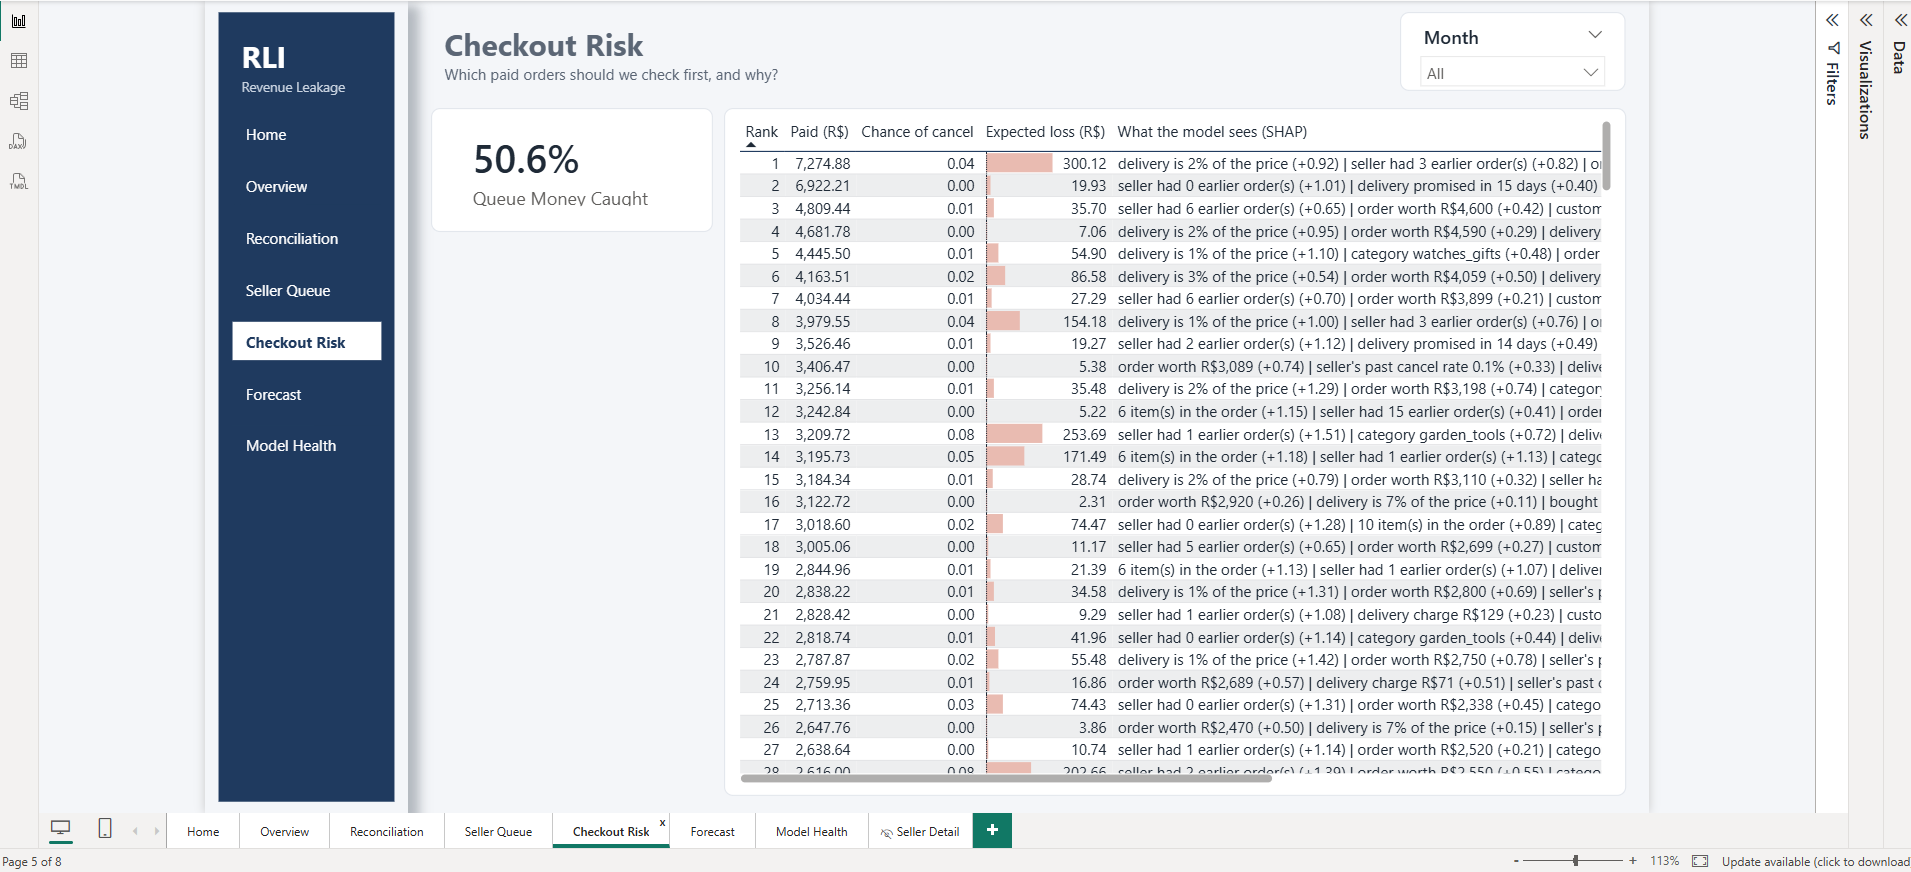

The page's visual inventory and layout, read from the dashboard file:
{"tool":"powerbi","page":{"name":"Checkout Risk","canvas":[1280,720],"ordinal":4},"visuals":[{"type":"shape","box":[0,0,180,720],"z":0},{"type":"pageNavigator","box":[12,90,156,330],"z":1},{"type":"textbox","box":[20,20,150,78],"z":2},{"type":"textbox","box":[200,10,600,75],"z":3},{"type":"slicer","fields":{"Values":["DimDate.Month"]},"box":[1060,10,200,70],"z":4},{"type":"cardVisual","fields":{"Data":["_Measures.Queue Money Caught"]},"box":[200,95,250,110],"z":5},{"type":"tableEx","fields":{"Values":["Sum(ml_order_risk.queue_rank)","Sum(ml_order_risk.paid_rs)","Sum(ml_order_risk.chance)","Sum(ml_order_risk.expected_loss_rs)","ml_order_risk.reasons","ml_order_risk.order_id"]},"box":[460,95,800,610],"z":6}]}

Visuals, with their boxes on the page's 1280x720 design canvas (x1, y1, x2, y2). These are canvas units, not pixel positions in the 1911x872 screenshot, which may show the page scaled, cropped or inside an application window:
shape: bbox=[0, 0, 180, 720]
pageNavigator: bbox=[12, 90, 168, 420]
textbox: bbox=[20, 20, 170, 98]
textbox: bbox=[200, 10, 800, 85]
slicer - DimDate.Month: bbox=[1060, 10, 1260, 80]
cardVisual - _Measures.Queue Money Caught: bbox=[200, 95, 450, 205]
tableEx - Sum(ml_order_risk.queue_rank) x Sum(ml_order_risk.paid_rs): bbox=[460, 95, 1260, 705]
